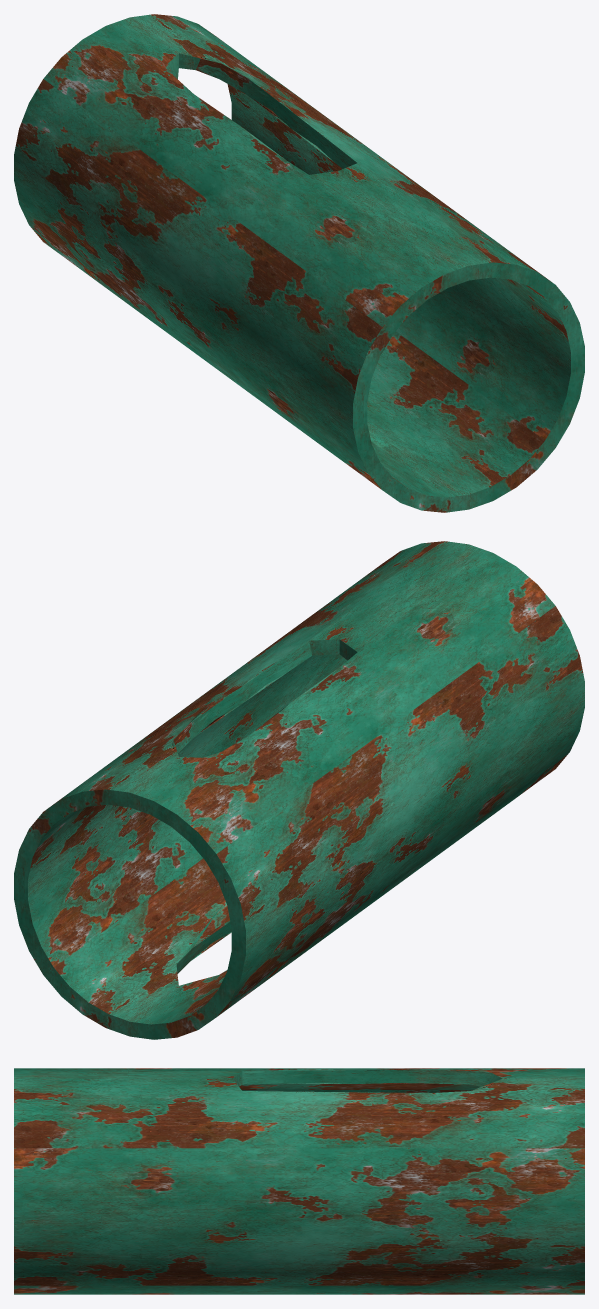
Rendered from CEV10_3.fbx.
3 renders of one model, top to bottom at view 1: azimuth 30°, elevation 25°; view 2: azimuth 150°, elevation 25°; view 3: azimuth 270°, elevation 25°, orthographic. The views are drawn at different scales.
Parts seen in each view (by area): view 1: Cev 3; view 2: Cev 3; view 3: Cev 3.
Boxes of the visible parts, x1,y1,x2,y2 form: Cev 3: (14, 14, 584, 512); Cev 3: (14, 541, 584, 1039); Cev 3: (14, 1068, 584, 1294).
Bounding box in the file's own units: 155 × 156 × 394.
